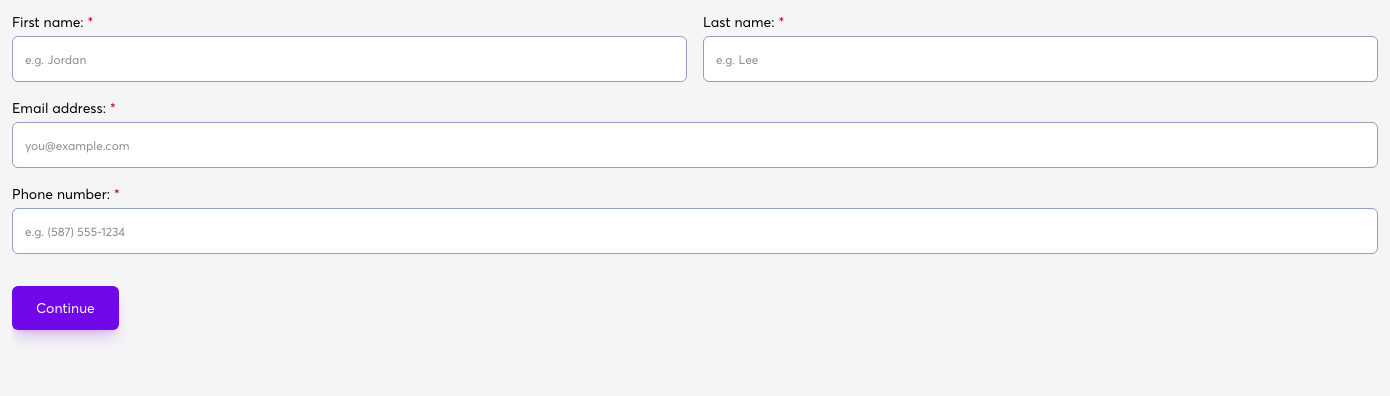
Scenario: shows a rejected code request on the form
In the field named "firstname": (350, 59) [12, 36, 687, 82], type "Ada"
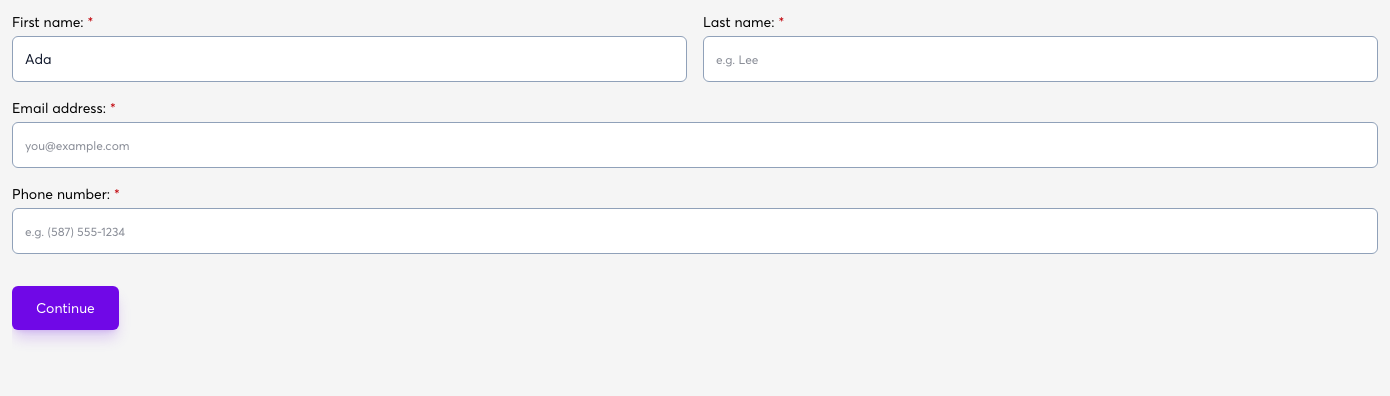
In the field labelled "Last name:": (1040, 59) [703, 36, 1378, 82], type "Lovelace"
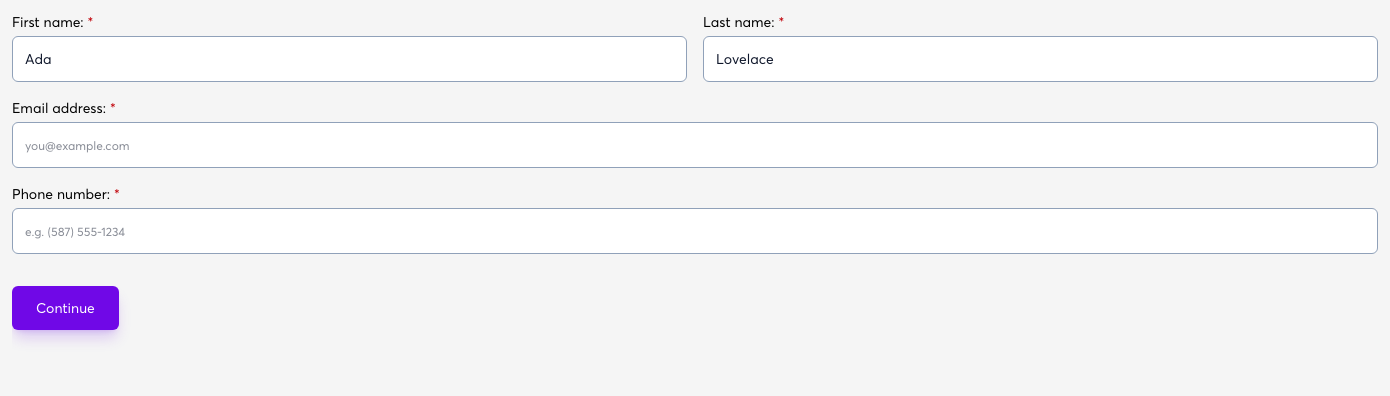
In the field named "emailAddress": (695, 145) [12, 122, 1378, 168], type "ada@example.com"
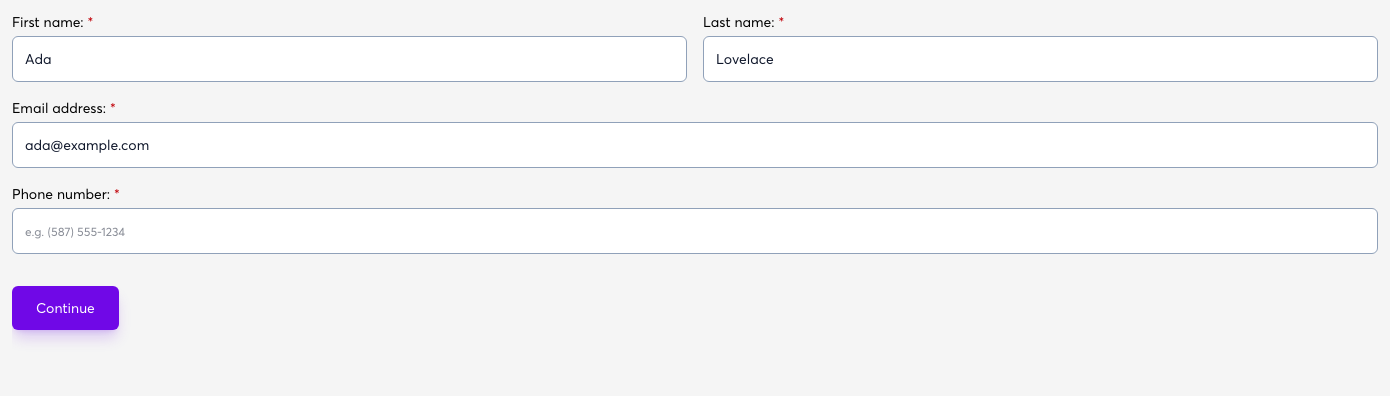
In the field named "phoneNumber": (695, 231) [12, 208, 1378, 254], type "5875551234"
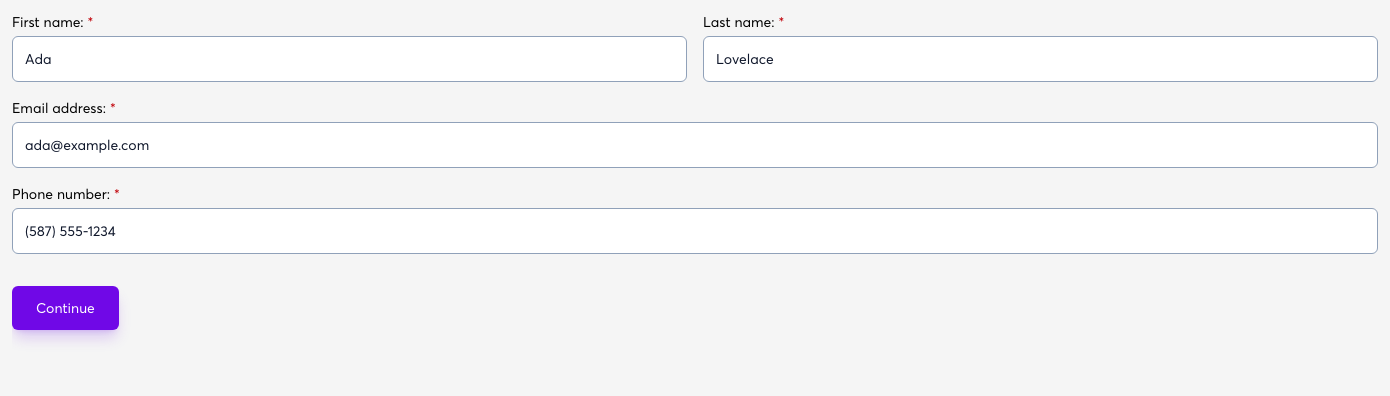
Click the button "Continue": (65, 308) [12, 286, 119, 330]
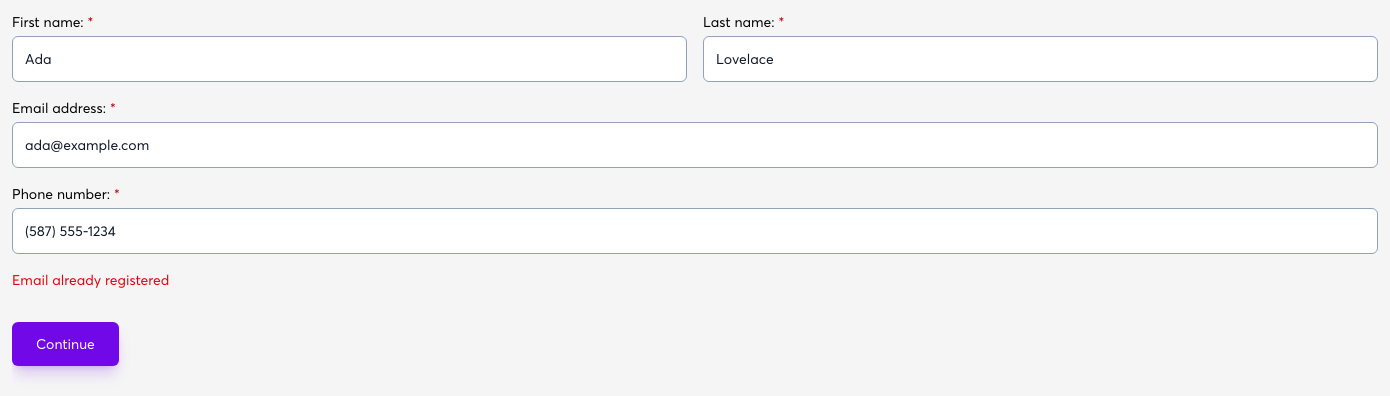
Expected: the message reads "Email already registered", [12, 271, 169, 288]
